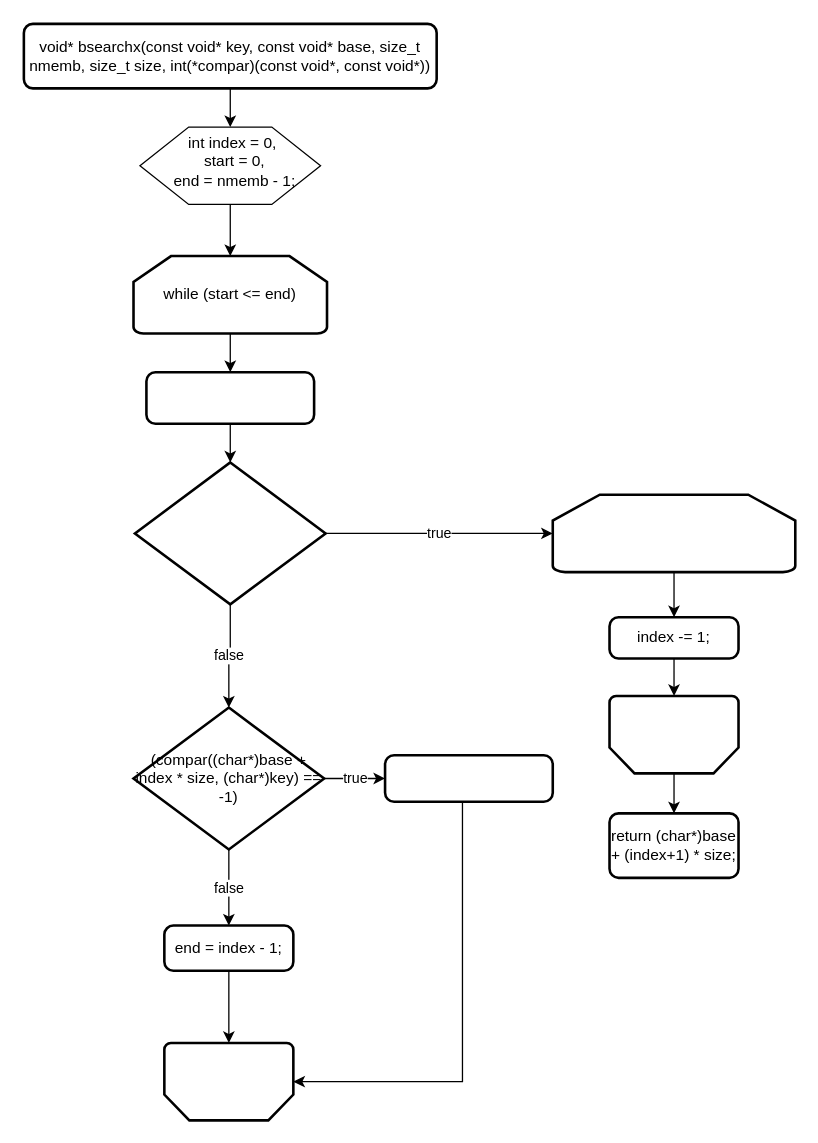
The diagram is 818 pixels wide and 1143 high, and some of its shapes have lost their labels. Here are the shapes that lost their labels. From the top down, the centre of each, then its label:
[229,397]: index = (start + end) / 2;
[229,533]: compar((char*)base + index*size, (char*)key) == 0
[673,533]: while (compar((char*)base + index * size, (char*)key) == 0)
[468,777]: start = index + 1;
